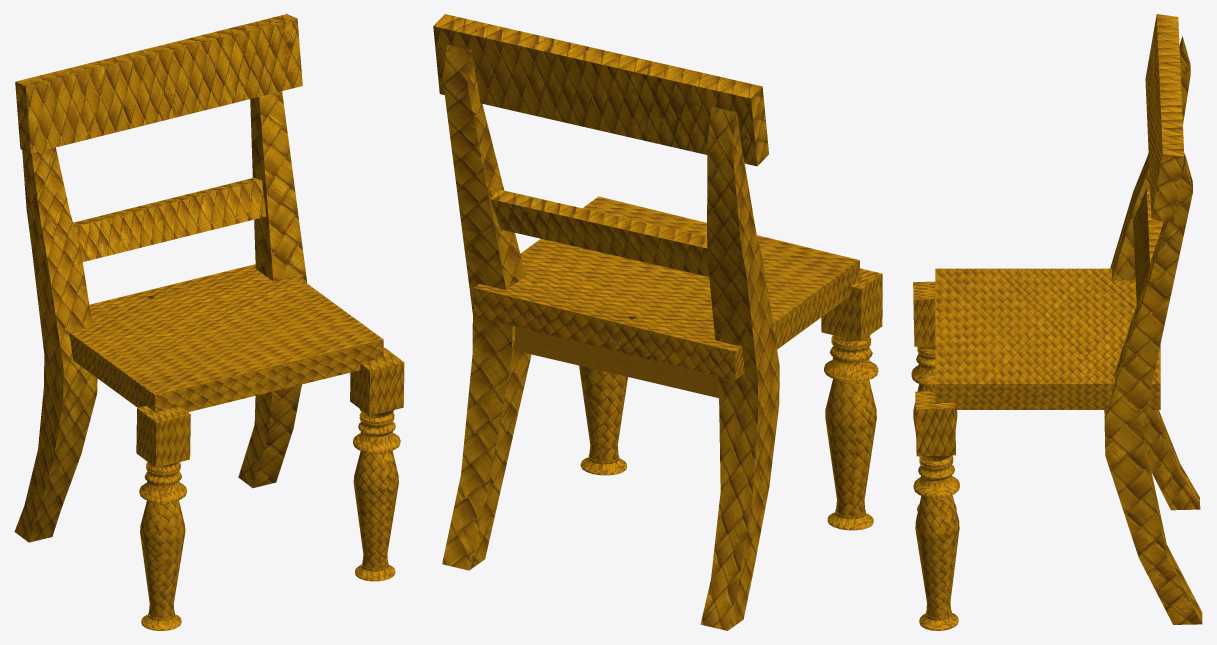
The model's file is sandalye_parlak.fbx.
3 renders of one model, left to right at view 1: azimuth 30°, elevation 25°; view 2: azimuth 150°, elevation 25°; view 3: azimuth 270°, elevation 25°, orthographic. The views are drawn at different scales.
Visible parts, largest first — view 1: Cube.001; view 2: Cube.001; view 3: Cube.001.
Boxes of the visible parts, left/top/right/bottom form: Cube.001: left=14, top=14, right=404, bottom=630; Cube.001: left=433, top=14, right=882, bottom=630; Cube.001: left=911, top=14, right=1202, bottom=630.
Bounding box in the file's own units: 283 × 462 × 251.
1 material, 1 textured.
